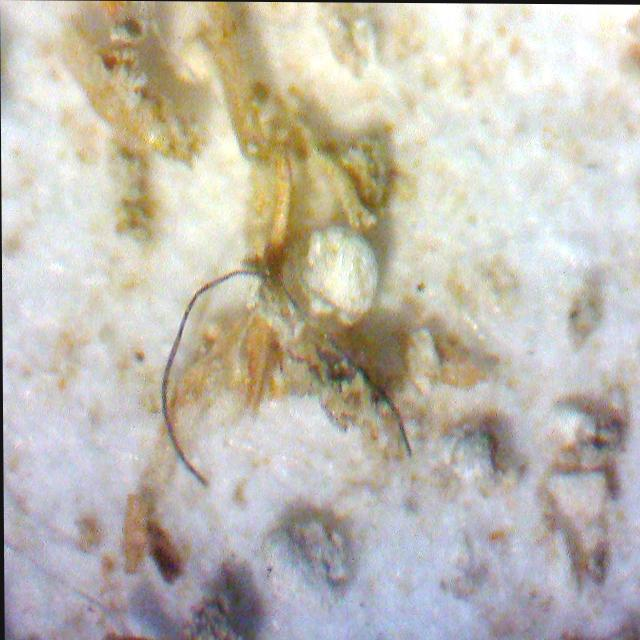microplastic: (160, 270, 414, 486)
